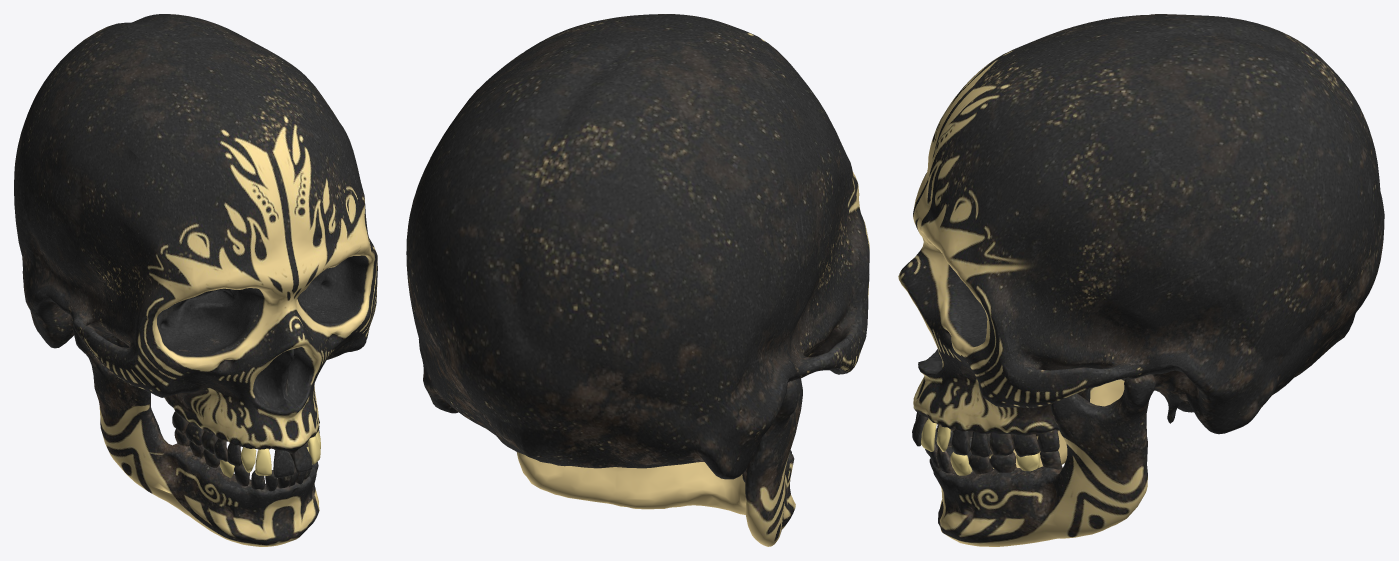
File: skull.glb
3 renders of one model, left to right at view 1: azimuth 30°, elevation 25°; view 2: azimuth 150°, elevation 25°; view 3: azimuth 270°, elevation 25°, orthographic. The views are drawn at different scales.
Parts seen in each view (by area): view 1: skull; view 2: skull; view 3: skull.
Boxes of the visible parts, box(x1,y1,x2,y2) form: skull: box(14, 14, 377, 546); skull: box(406, 14, 869, 546); skull: box(898, 14, 1384, 546).
Bounding box in the file's own units: 1.54 × 2.34 × 2.06.
Materials: 2 (2 with a texture image).
